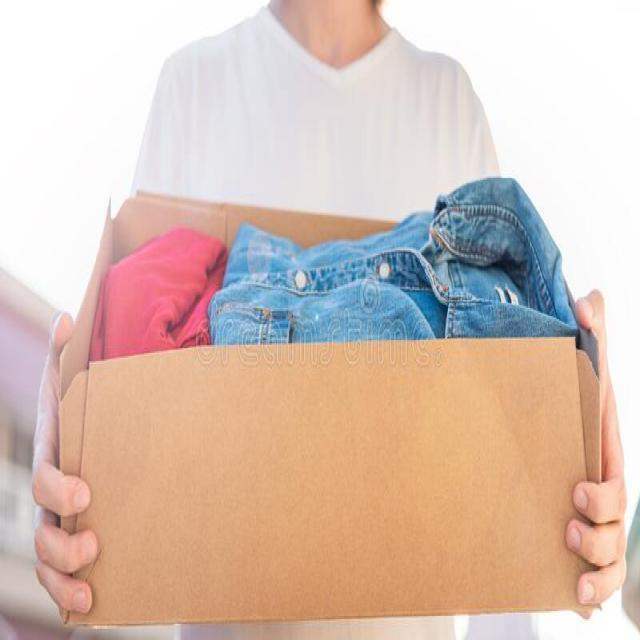clothes: (49, 170, 592, 360)
